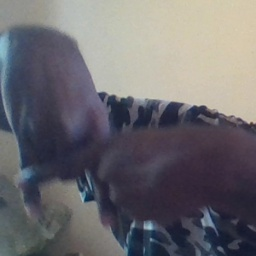H: (4, 100, 141, 228)
